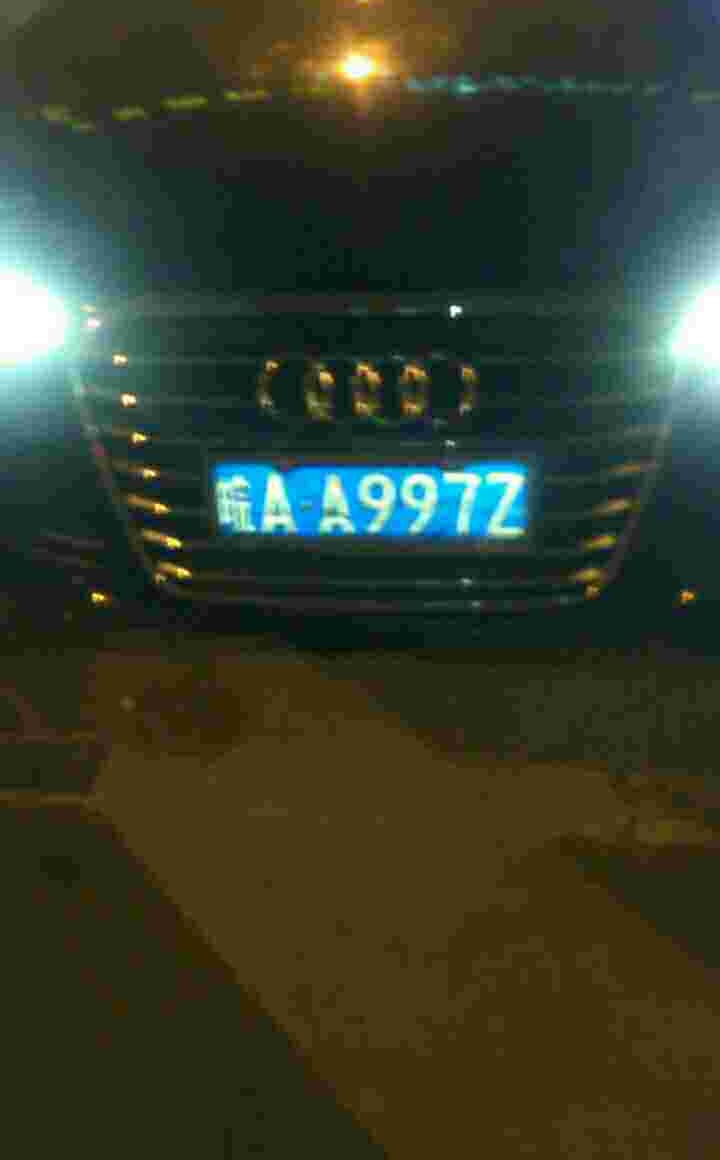license_plate: (218, 457, 530, 545)
